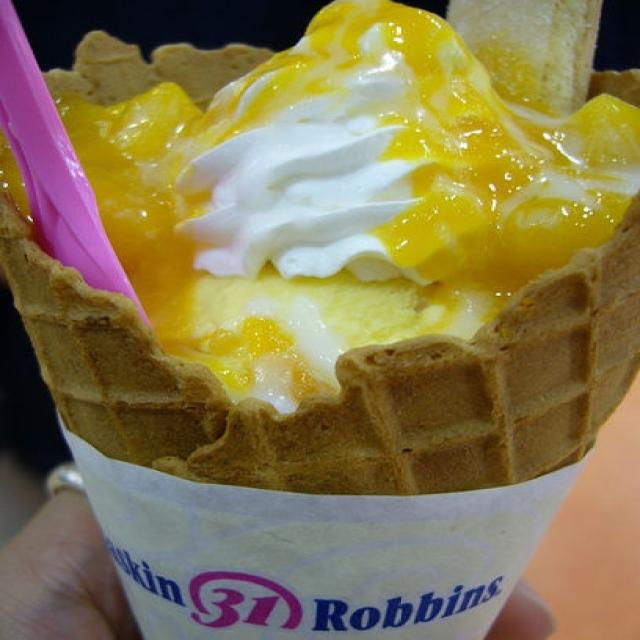蛋糕甜品: (16, 15, 635, 608)
